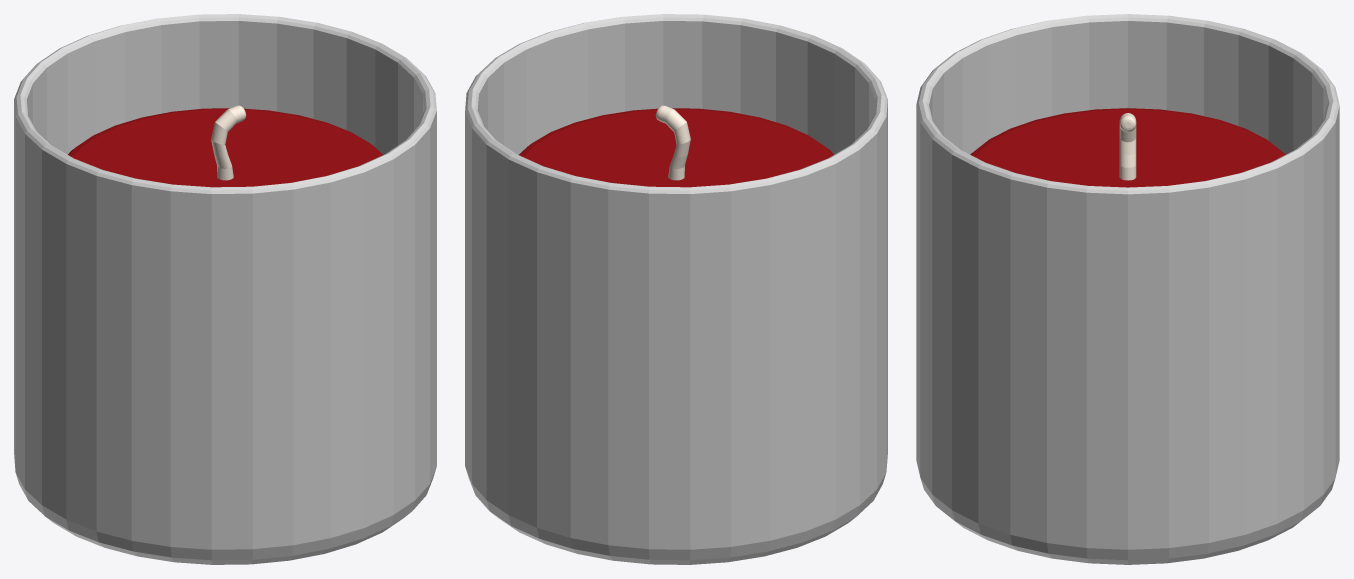
The model's file is candle.fbx.
The picture shows the model from 3 angles, left to right: view 1: azimuth 30°, elevation 25°; view 2: azimuth 150°, elevation 25°; view 3: azimuth 270°, elevation 25°; orthographic projection.
Visible parts, largest first — view 1: candle; view 2: candle; view 3: candle.
Boxes of the visible parts, <box> form: candle: <box>14,14,436,564</box>; candle: <box>465,14,887,564</box>; candle: <box>916,14,1339,564</box>.
Size of the model in its own units: 20 by 20 by 20.
